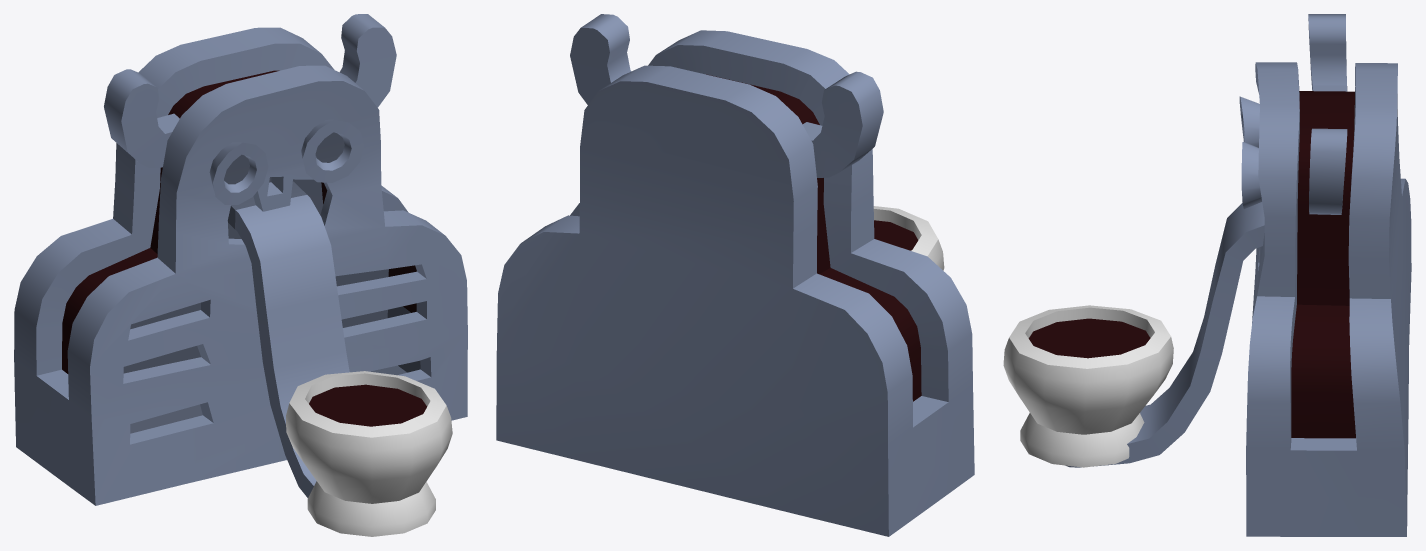
The model's file is stone_deamon.fbx.
3 renders of one model, left to right at view 1: azimuth 30°, elevation 25°; view 2: azimuth 150°, elevation 25°; view 3: azimuth 270°, elevation 25°, orthographic. The views are drawn at different scales.
Parts seen in each view (by area): view 1: stone_deamon; view 2: stone_deamon; view 3: stone_deamon.
Boxes of the visible parts, box(x1,y1,x2,y2) form: stone_deamon: box(14, 14, 467, 536); stone_deamon: box(496, 14, 974, 536); stone_deamon: box(1003, 14, 1411, 536).
Bounding box in the file's own units: 72.5 × 70.85 × 69.09.
